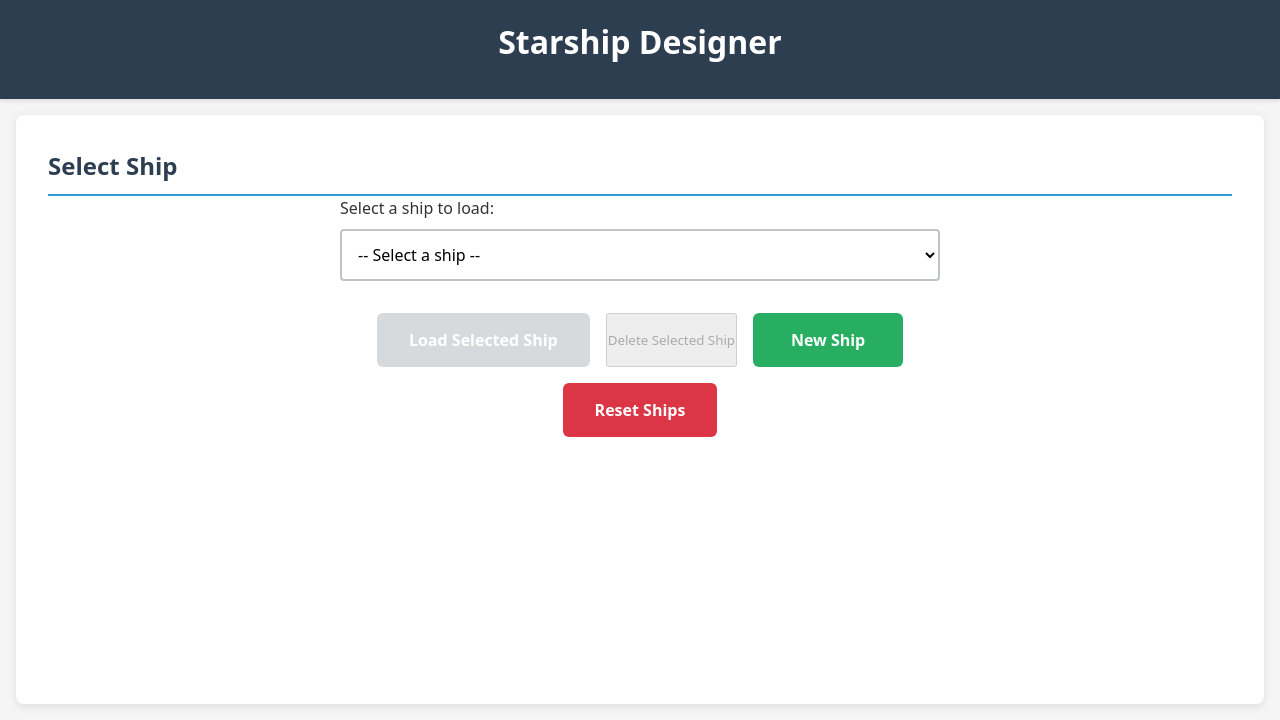
Test: App › loading a default ship shows its name in the name input
The image size is (1280, 720).
Select "Scout (100 tons, TLE)" in the dropdown at (640, 255), box [340,229,940,281]
(page scrolled)
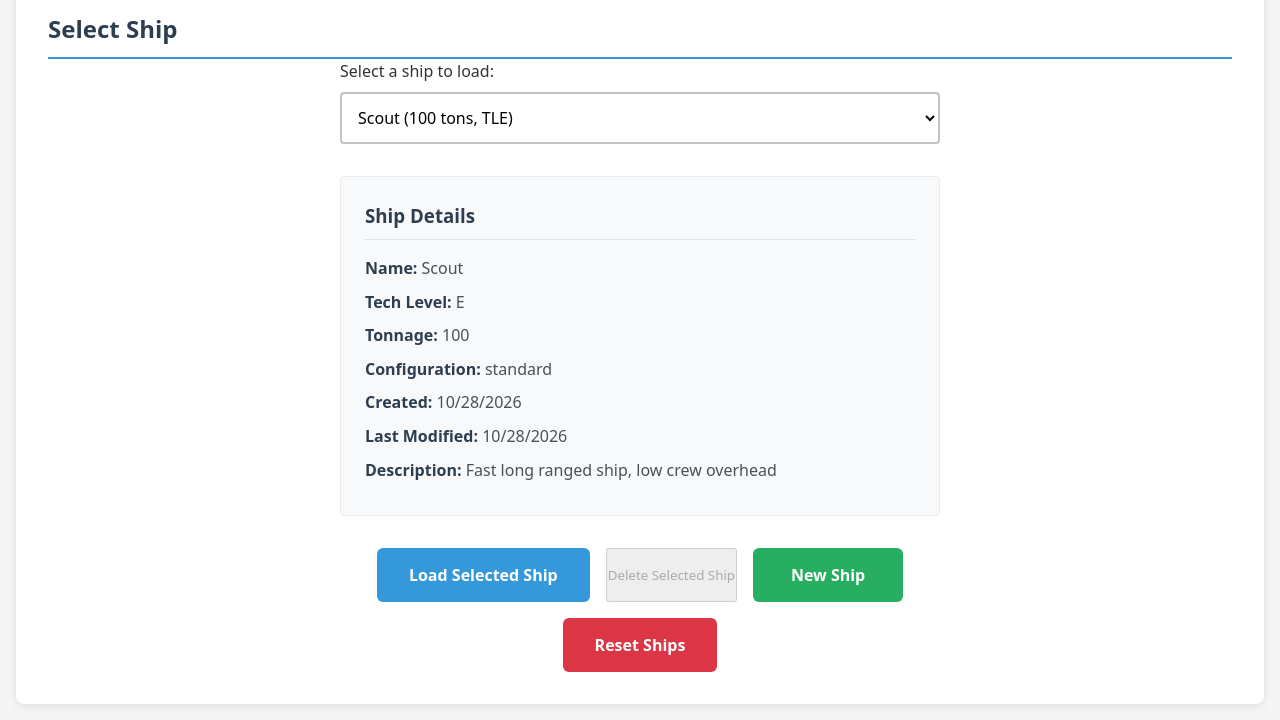
Click the button "Load Selected Ship" at (483, 575), box [377,548,590,602]
(page scrolled)
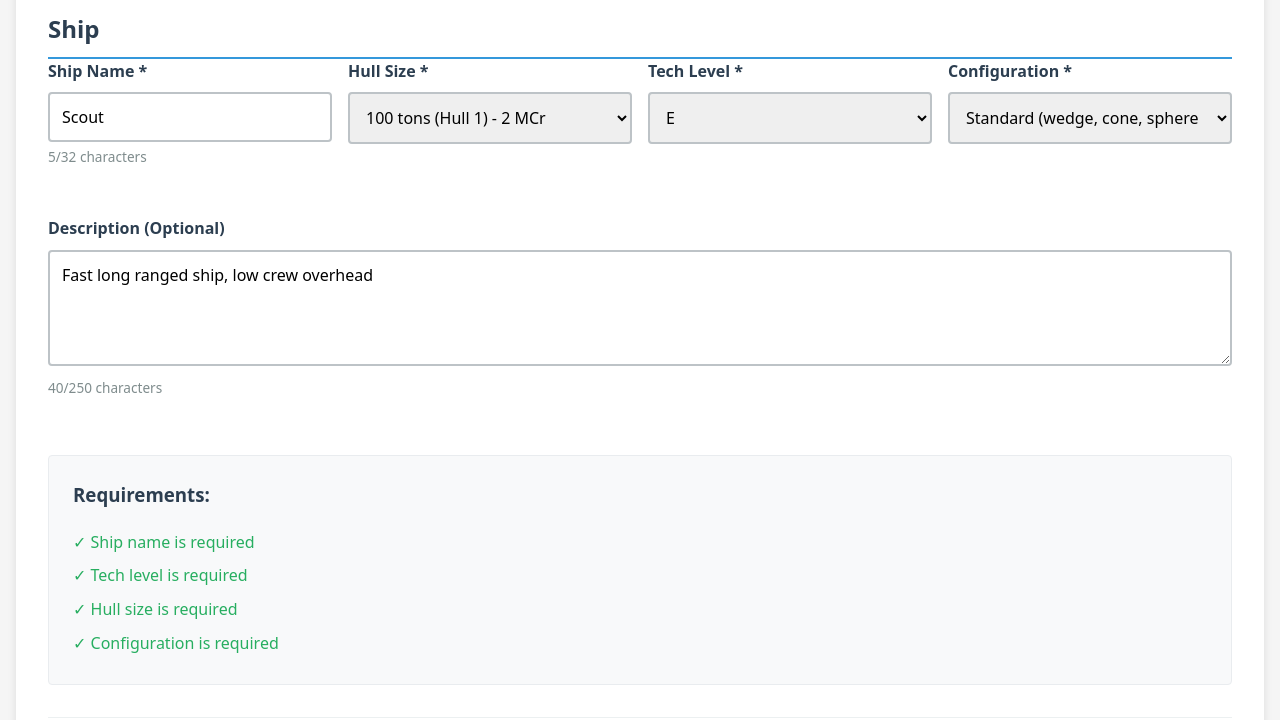
Expected: the heading "Ship" is shown, [48,10,1232,59]
Expected: the field labelled "Ship Name *" holds "Scout", [48,92,332,142]
